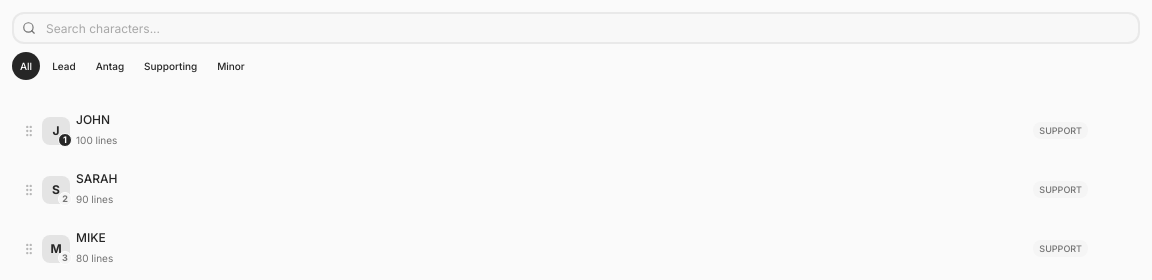
Scenario: CharactersPanel › filtering › should show no match message when filter has no results
Type "ZZZZZ" into the field with placeholder "Search characters..." at (576, 28), box [12,12,1140,44]
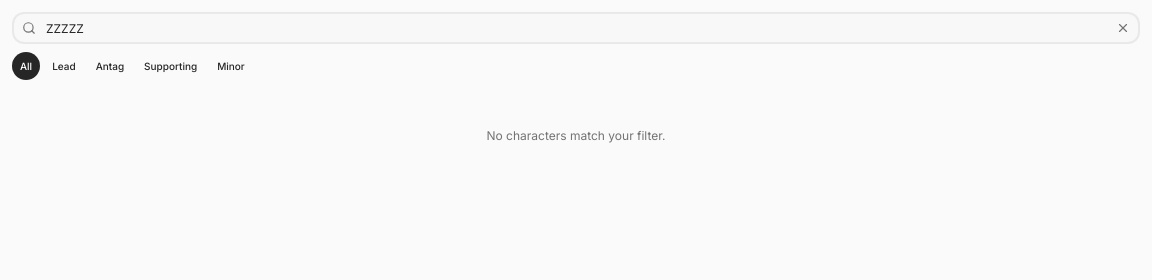
expect the text "No characters match your filter." is shown: met, box [486,128,666,143]
